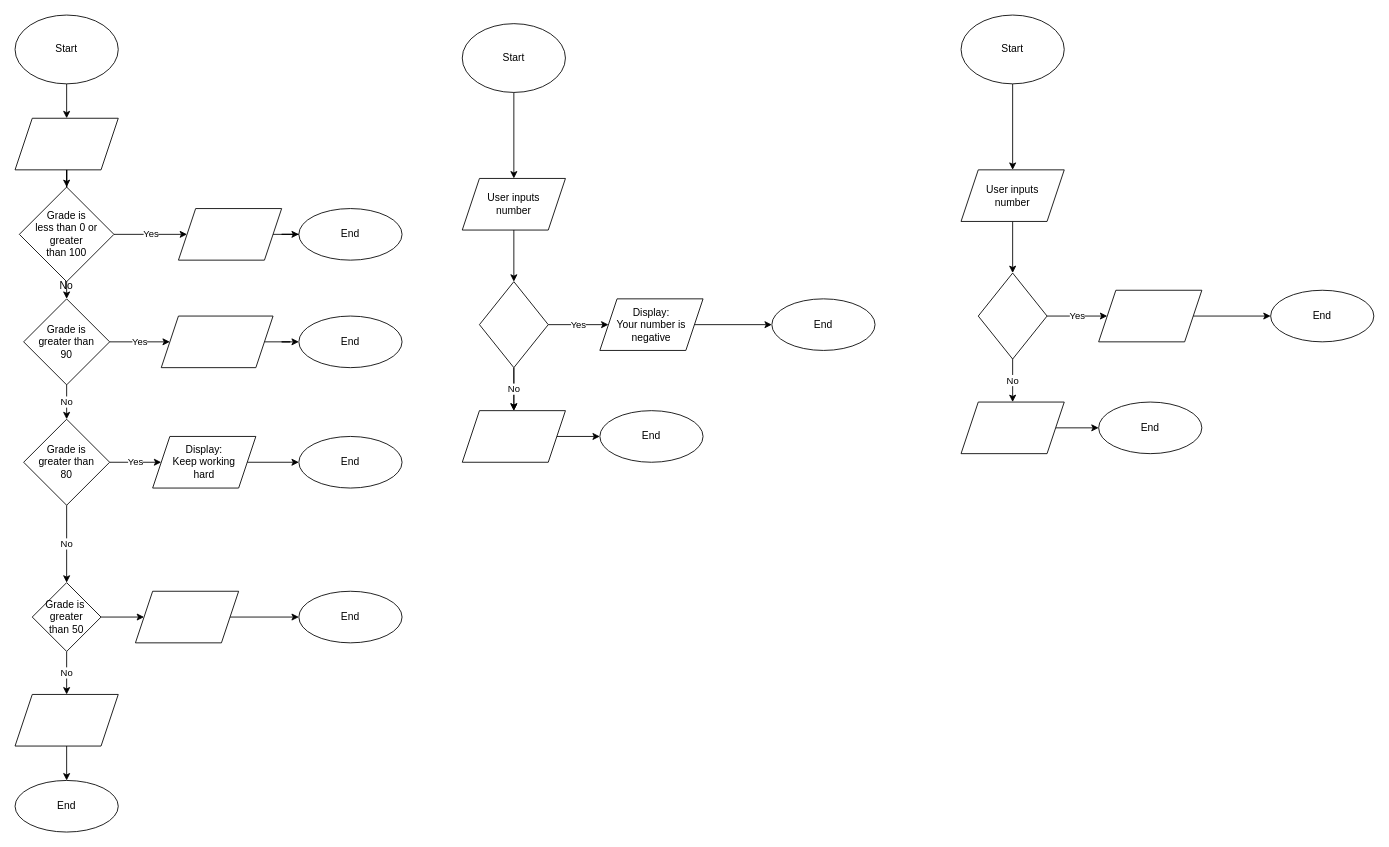
Image size: 1389x847. Some labels were removed from this diagram. The shapes that lost their labels are listed below. From the top down, each one's centre as x and y in pixels, then its label:
the point at 66,143: User enters grade
the point at 230,234: Display: Invalid Entry
the point at 513,324: If number is negative
the point at 1012,315: If number is even
the point at 1150,315: Display: Your number is even
the point at 216,341: Display: You are doing an excellent job
the point at 513,436: Display: Your number is positive
the point at 1012,427: Display: Your number is odd
the point at 187,616: Display: You are passing
the point at 66,720: Display: You are failing
